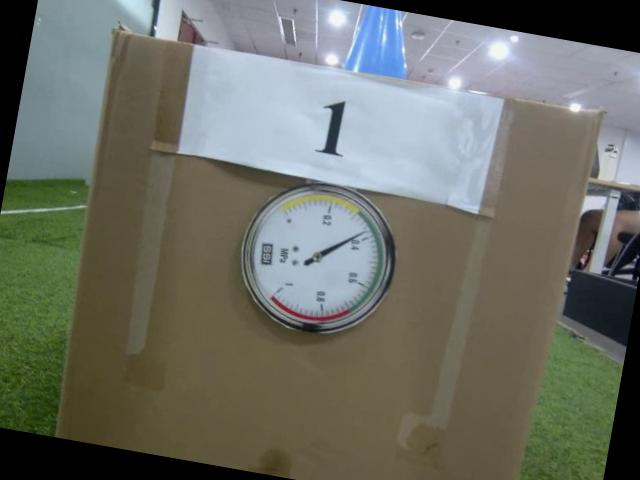1: (306, 96, 356, 160)
Dashboard: (226, 170, 413, 352)
blue_barrel: (338, 2, 422, 80)
ssi: (254, 237, 274, 265)
